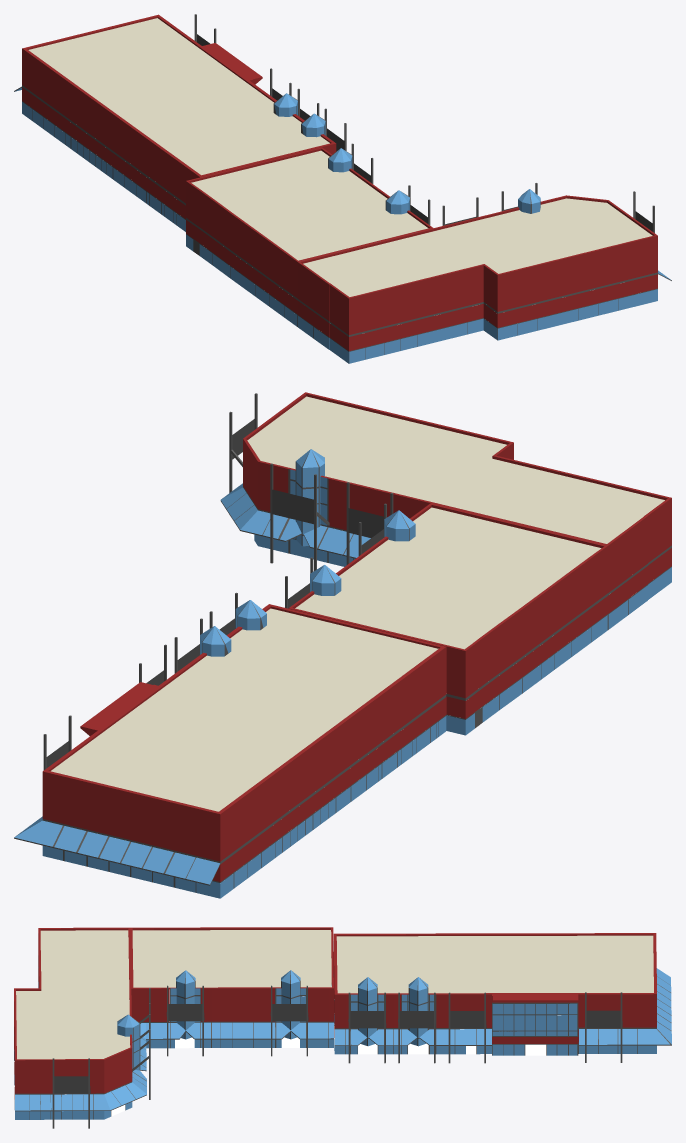
Rendered from sanders_WBv5.glb.
3 views of the same model, one above another, from view 1: azimuth 30°, elevation 25°; view 2: azimuth 150°, elevation 25°; view 3: azimuth 270°, elevation 25° (orthographic). The views are drawn at different scales.
Parts seen in each view (by area): view 1: 279815744; view 2: 279815744; view 3: 279815744.
Part boxes in pixels (<box>): 279815744: <box>14,14,671,363</box>; 279815744: <box>14,392,671,898</box>; 279815744: <box>14,927,671,1128</box>.
Size of the model in its own units: 263 by 66.71 by 520.
